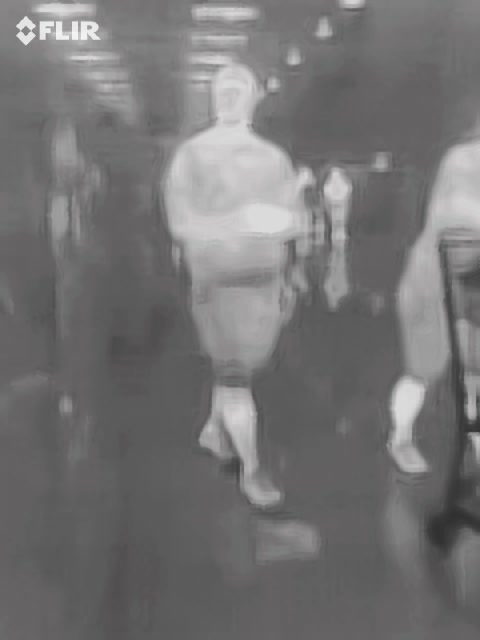head: (212, 65, 256, 124)
